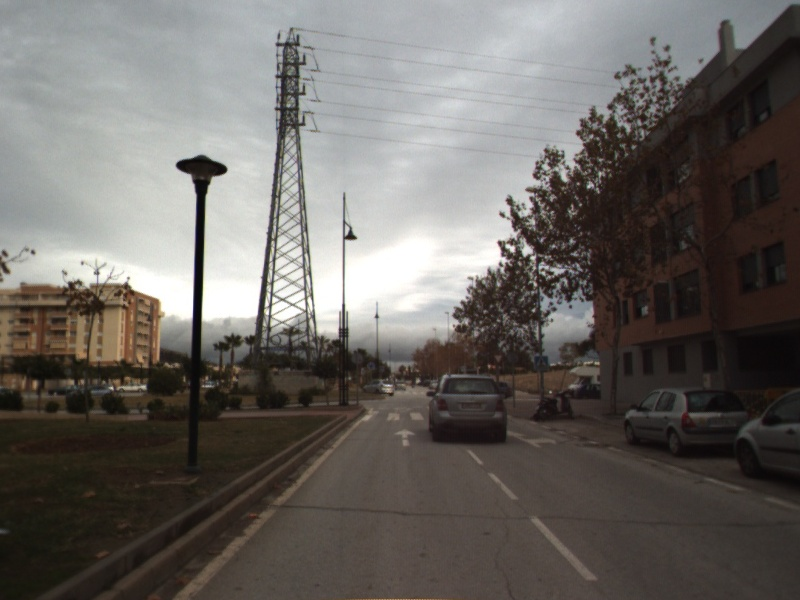STRAIGHT: (393, 427, 418, 448)
STRAIGHT_RIGHT: (506, 429, 558, 449)
